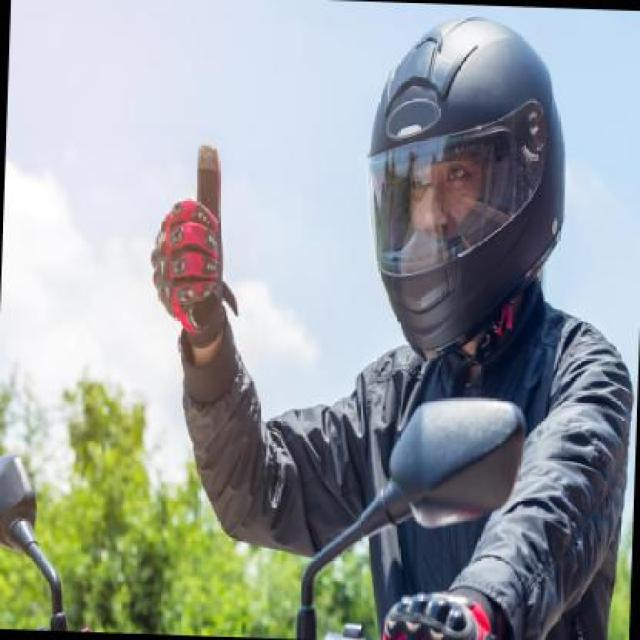helmet on: (345, 17, 583, 360)
